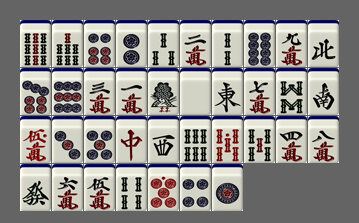0m: (20, 116, 51, 163)
0p: (148, 164, 179, 211)
0s: (212, 116, 243, 163)
1m: (116, 68, 147, 115)
1p: (212, 164, 243, 211)
1s: (148, 68, 179, 115)
1z: (212, 68, 243, 115)
2m: (180, 20, 211, 67)
2p: (116, 20, 147, 67)
2s: (212, 20, 243, 67)
2z: (308, 68, 339, 115)
3m: (84, 68, 115, 115)
3p: (52, 116, 83, 163)
3s: (148, 20, 179, 67)
3z: (148, 116, 179, 163)
4m: (276, 116, 307, 163)
4p: (180, 164, 211, 211)
4s: (116, 164, 147, 211)
4z: (308, 20, 339, 67)
5m: (84, 164, 115, 211)
5p: (84, 116, 115, 163)
5s: (244, 116, 275, 163)
5z: (180, 68, 211, 115)
6m: (52, 164, 83, 211)
6p: (84, 20, 115, 67)
6s: (180, 116, 211, 163)
6z: (20, 164, 51, 211)
7m: (244, 68, 275, 115)
7p: (20, 68, 51, 115)
7s: (52, 20, 83, 67)
7z: (116, 116, 147, 163)
8m: (308, 116, 339, 163)
8p: (244, 20, 275, 67)
8s: (276, 68, 307, 115)
9m: (276, 20, 307, 67)
9p: (52, 68, 83, 115)
9s: (20, 20, 51, 67)
